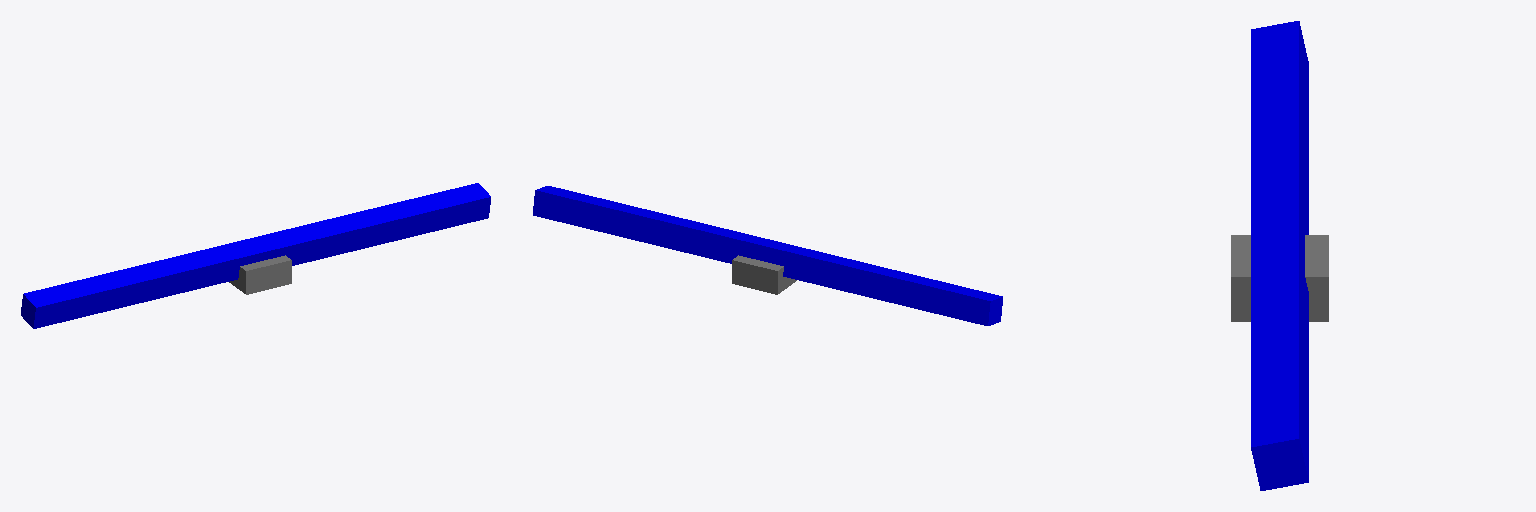
robot.urdf — jungkat:
<?xml version="1.0" ?>
<!-- =================================================================================== -->
<!-- |    This document was autogenerated by xacro from model.urdf.xacro               | -->
<!-- |    EDITING THIS FILE BY HAND IS NOT RECOMMENDED                                 | -->
<!-- =================================================================================== -->
<robot name="jungkat">
  <!-- Base link -->
  <link name="base_link">
    <inertial>
      <mass value="5.0"/>
      <inertia ixx="0.1" ixy="0" ixz="0" iyy="0.1" iyz="0" izz="0.1"/>
    </inertial>
    <visual>
      <origin rpy="0 0 0" xyz="0 0 0"/>
      <geometry>
        <box size="0.2 0.2 0.1"/>
      </geometry>
      <material name="gray">
        <color rgba="0.5 0.5 0.5 1"/>
      </material>
    </visual>
  </link>
  <!-- Beam -->
  <link name="beam">
    <inertial>
      <mass value="1.0"/>
      <inertia ixx="0.02" ixy="0" ixz="0" iyy="0.02" iyz="0" izz="0.02"/>
    </inertial>
    <visual>
      <origin rpy="0.2 0 0" xyz="0 0 0"/>
      <!-- Miring sedikit -->
      <geometry>
        <box size="2 0.1 0.1"/>
      </geometry>
      <material name="blue">
        <color rgba="0 0 1 1"/>
      </material>
    </visual>
  </link>
  <!-- Joint -->
  <joint name="pivot_joint" type="revolute">
    <parent link="base_link"/>
    <child link="beam"/>
    <origin rpy="0 0 0" xyz="0 0 0.05"/>
    <axis xyz="0 1 0"/>
    <limit effort="10" lower="-1.57" upper="1.57" velocity="5"/>
    <dynamics damping="0.01" friction="0.01"/>
  </joint>
</robot>

--- What the picture shows (computed from the rendered views, not written in the file) ---
Views: 3 orthographic renders of the robot side by side, from view 1: azimuth 30°, elevation 25°; view 2: azimuth 150°, elevation 25°; view 3: azimuth 270°, elevation 25°.
Robot: jungkat — 2 links, 1 joints (1 revolute); root link base_link; default pose: all joints at 0.
Links seen in each view (by area): view 1: beam, base_link; view 2: beam, base_link; view 3: beam, base_link.
Link boxes in pixels (x1,y1,x2,y2): beam: (21,183,490,328); base_link: (229,255,291,294); beam: (533,186,1002,325); base_link: (732,255,796,294); beam: (1251,21,1308,490); base_link: (1231,235,1328,321).
Bounding box of the posed robot: 2 × 0.2 × 0.1589 m (x, y, z).
Geometry: primitives only (box / cylinder / sphere), no mesh files.
